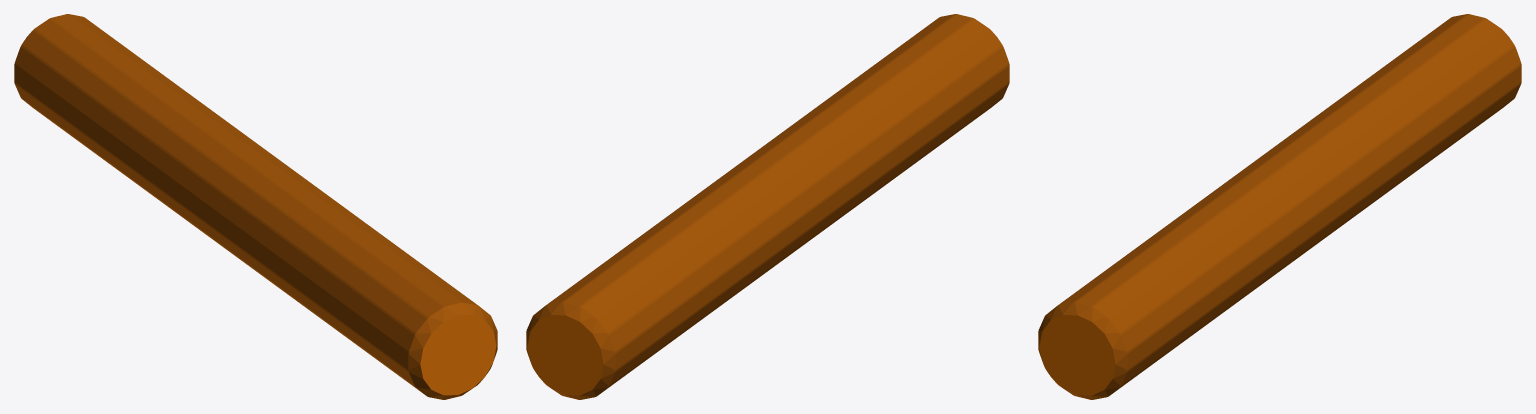
The model's file is Log.fbx.
3 views of the same model, side by side, from view 1: azimuth 30°, elevation 25°; view 2: azimuth 150°, elevation 25°; view 3: azimuth 330°, elevation 25° (orthographic).
Parts seen in each view (by area): view 1: Circle.005; view 2: Circle.005; view 3: Circle.005.
Part boxes in pixels (bbox=[...]): Circle.005: bbox=[14, 14, 497, 399]; Circle.005: bbox=[526, 14, 1009, 399]; Circle.005: bbox=[1038, 14, 1521, 399].
Size of the model in its own units: 54.72 by 430 by 54.72.
